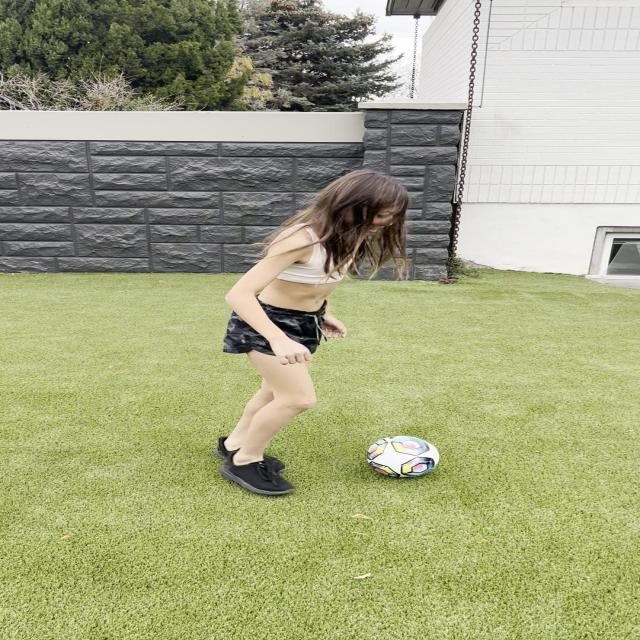Soccer Ball: (367, 436, 440, 476)
